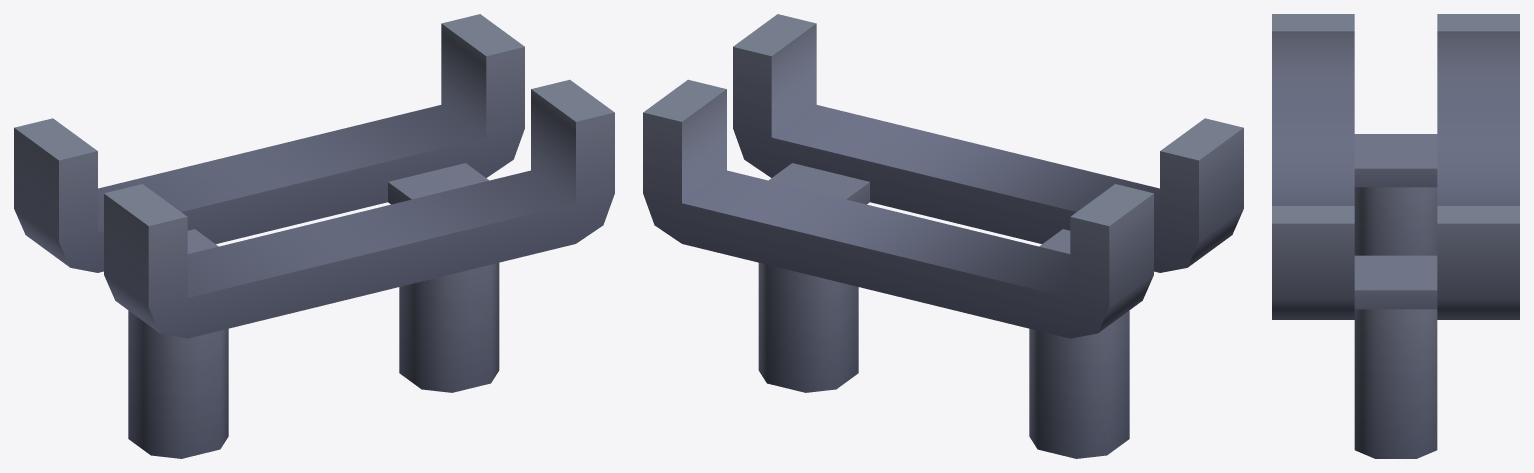
The model's file is kenney-marble-support-two-top-double.glb.
The picture shows the model from 3 angles, left to right: view 1: azimuth 30°, elevation 25°; view 2: azimuth 150°, elevation 25°; view 3: azimuth 270°, elevation 25°; orthographic projection. The views are drawn at different scales.
Parts seen in each view (by area): view 1: support-two-top-double; view 2: support-two-top-double; view 3: support-two-top-double.
Boxes of the visible parts, x1,y1,x2,y2 form: support-two-top-double: (14,14,614,458); support-two-top-double: (643,14,1243,458); support-two-top-double: (1272,14,1519,458).
Bounding box in the file's own units: 1.2 × 0.7 × 0.6001.
1 material, 1 textured.
